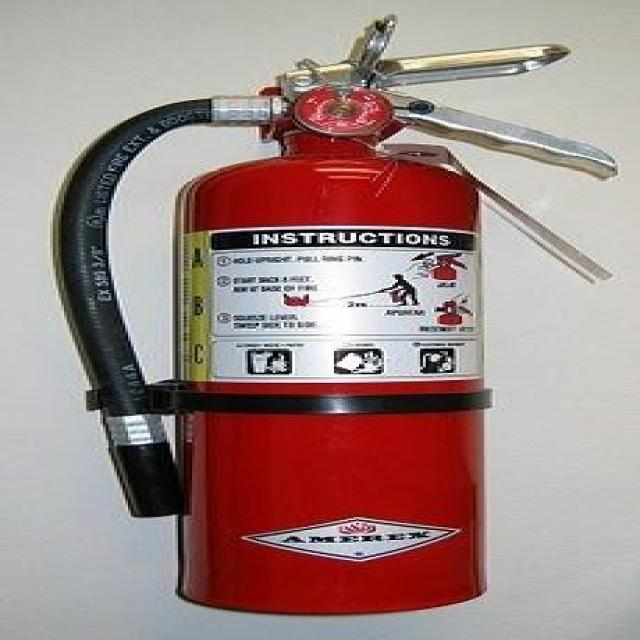fire_extinguisher: (38, 12, 630, 617)
